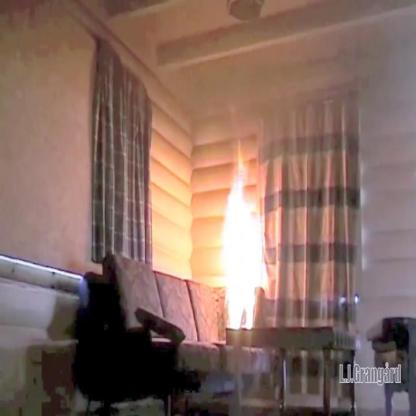fire: (216, 145, 272, 336)
